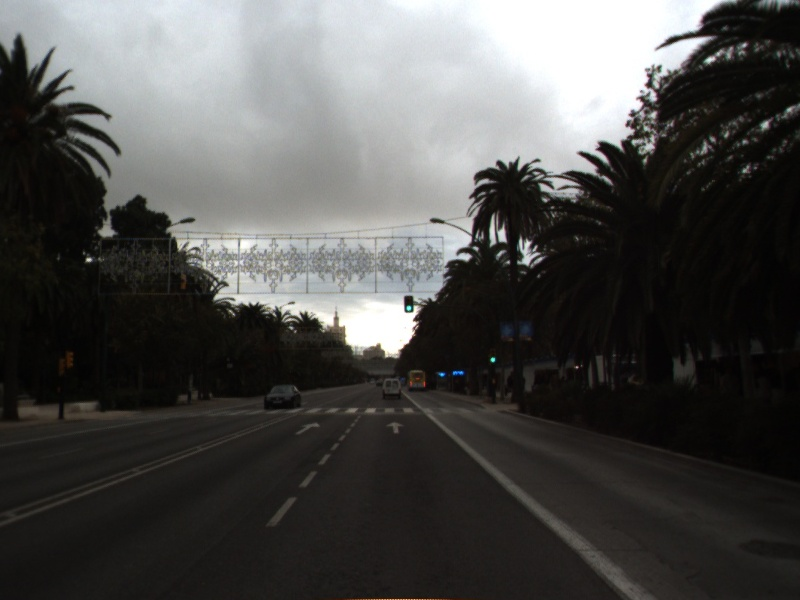STRAIGHT: (293, 420, 323, 437), (384, 420, 407, 436)
